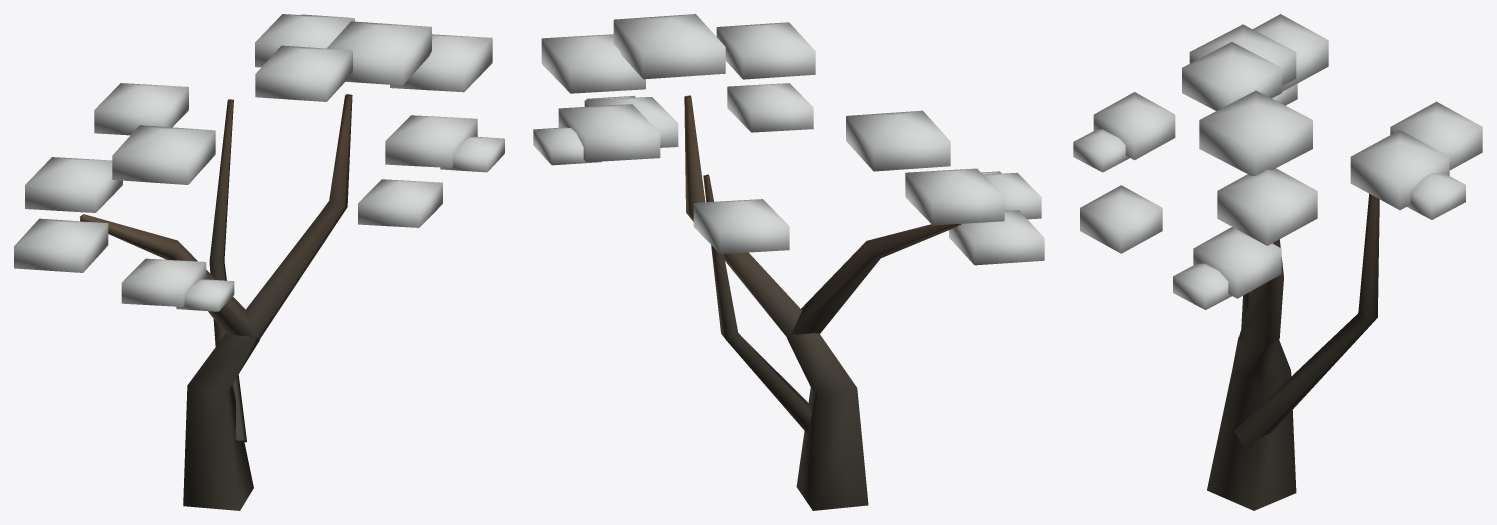
The picture shows the model from 3 angles, left to right: view 1: azimuth 30°, elevation 25°; view 2: azimuth 150°, elevation 25°; view 3: azimuth 270°, elevation 25°; orthographic projection. The views are drawn at different scales.
Parts seen in each view (by area): view 1: crown, trunk; view 2: crown, trunk; view 3: crown, trunk.
Boxes of the visible parts, x1,y1,x2,y2 form: crown: [14, 14, 504, 311]; trunk: [80, 94, 352, 510]; crown: [533, 14, 1044, 265]; trunk: [684, 95, 961, 510]; crown: [1073, 14, 1482, 309]; trunk: [1207, 193, 1379, 510].
Size of the model in its own units: 9.29 by 7.97 by 6.17.
